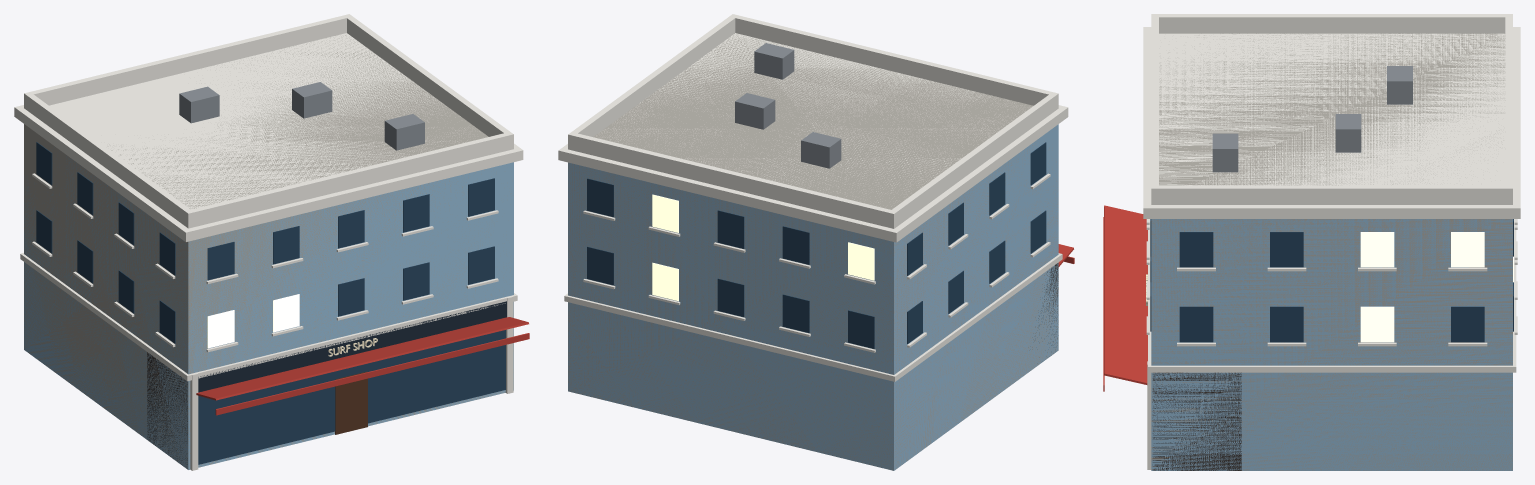
The model's file is BLD_MixedUse_B.fbx.
The picture shows the model from 3 angles, left to right: view 1: azimuth 30°, elevation 25°; view 2: azimuth 150°, elevation 25°; view 3: azimuth 270°, elevation 25°; orthographic projection. The views are drawn at different scales.
Parts seen in each view (by area): view 1: BLD_MixedUse_B__BODY, BLD_MixedUse_B__COL_Main; view 2: BLD_MixedUse_B__BODY, BLD_MixedUse_B__COL_Main; view 3: BLD_MixedUse_B__BODY, BLD_MixedUse_B__COL_Main.
Boxes of the visible parts, x1,y1,x2,y2 form: BLD_MixedUse_B__BODY: (14, 14, 529, 470); BLD_MixedUse_B__COL_Main: (24, 35, 511, 469); BLD_MixedUse_B__BODY: (558, 14, 1074, 470); BLD_MixedUse_B__COL_Main: (568, 33, 1058, 470); BLD_MixedUse_B__BODY: (1103, 14, 1520, 470); BLD_MixedUse_B__COL_Main: (1151, 33, 1512, 470).
Size of the model in its own units: 16.6 by 12.35 by 16.16.
